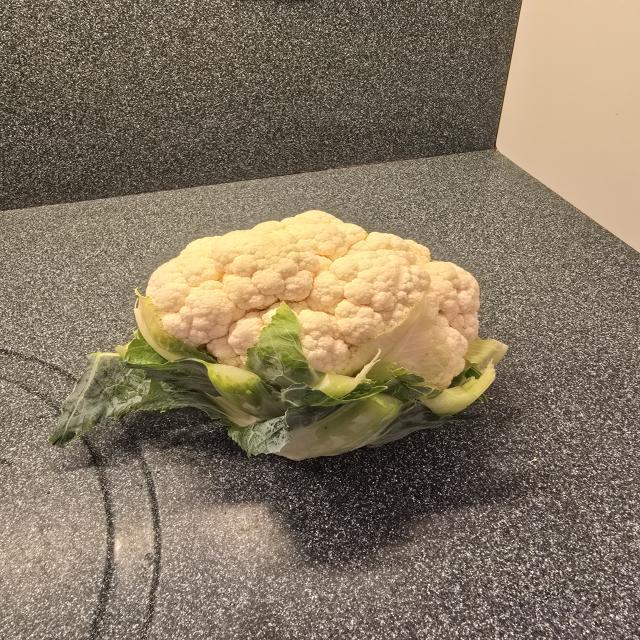Cauliflower: (110, 201, 526, 471)
